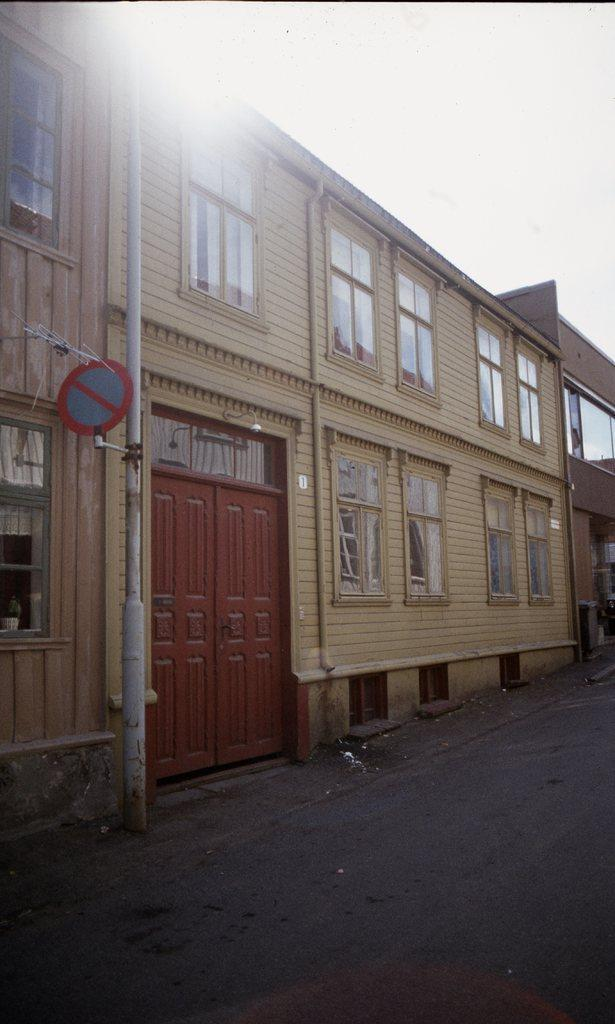door: (151, 486, 216, 756), (217, 490, 280, 746)
